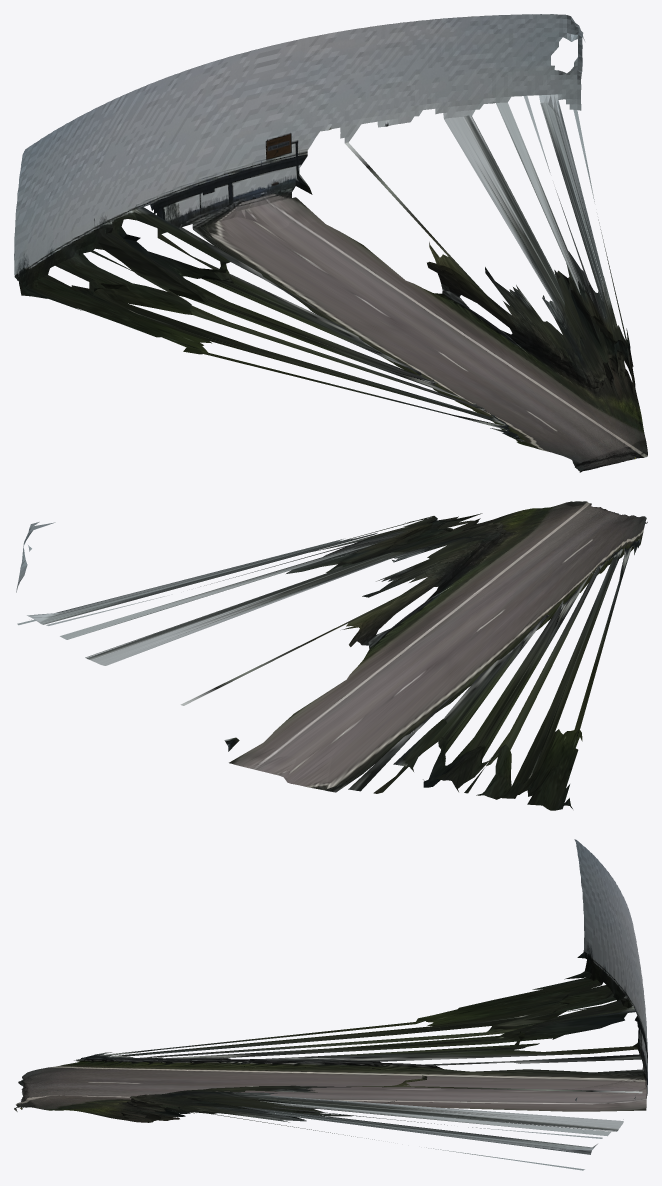
3 renders of one model, top to bottom at view 1: azimuth 30°, elevation 25°; view 2: azimuth 150°, elevation 25°; view 3: azimuth 270°, elevation 25°, orthographic. The views are drawn at different scales.
Parts seen in each view (by area): view 1: defaultobject; view 2: defaultobject; view 3: defaultobject.
Boxes of the visible parts, x1=… form: defaultobject: x1=14, y1=14, x2=647, y2=472; defaultobject: x1=16, y1=501, x2=647, y2=810; defaultobject: x1=14, y1=839, x2=647, y2=1170.
Size of the model in its own units: 41.09 by 12.05 by 44.62.
1 material, 1 textured.
